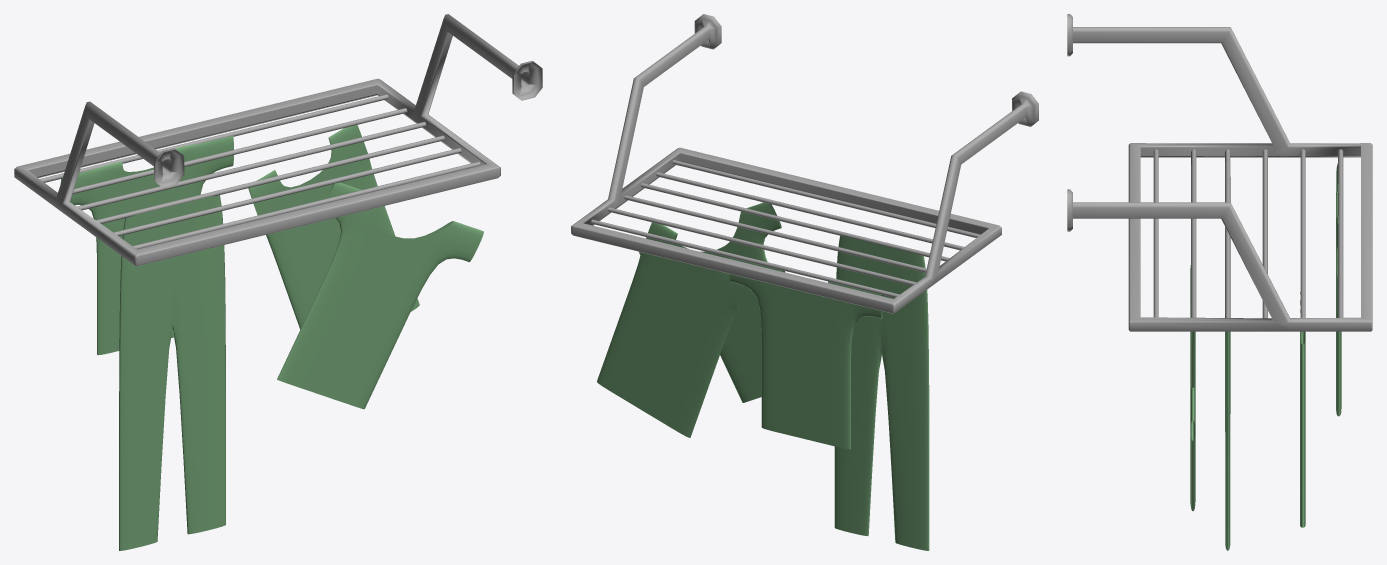
File: etendoir_linge_low 1.fbx
The picture shows the model from 3 angles, left to right: view 1: azimuth 30°, elevation 25°; view 2: azimuth 150°, elevation 25°; view 3: azimuth 270°, elevation 25°; orthographic projection. The views are drawn at different scales.
Visible parts, largest first — view 1: polySurface3, polySurface2; view 2: polySurface3, polySurface2; view 3: polySurface2, polySurface3.
Boxes of the visible parts, x1=… form: polySurface3: x1=60, y1=125, x2=483, y2=550; polySurface2: x1=14, y1=14, x2=542, y2=266; polySurface3: x1=597, y1=202, x2=929, y2=550; polySurface2: x1=571, y1=14, x2=1038, y2=313; polySurface2: x1=1067, y1=14, x2=1372, y2=331; polySurface3: x1=1190, y1=163, x2=1341, y2=550.
Bounding box in the file's own units: 114 × 129 × 76.57.
